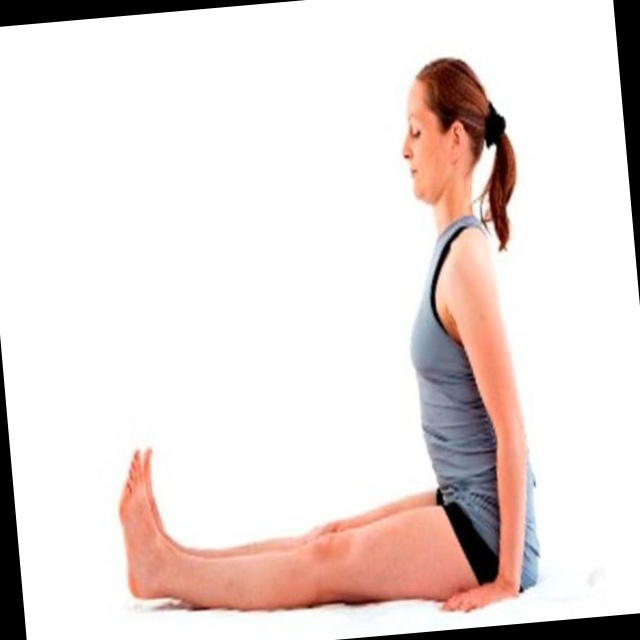Staff_Pose: (119, 57, 550, 616)
